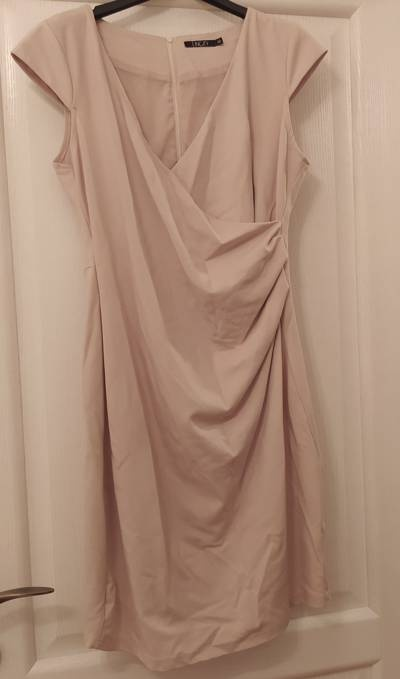Dress: (2, 15, 359, 657)
